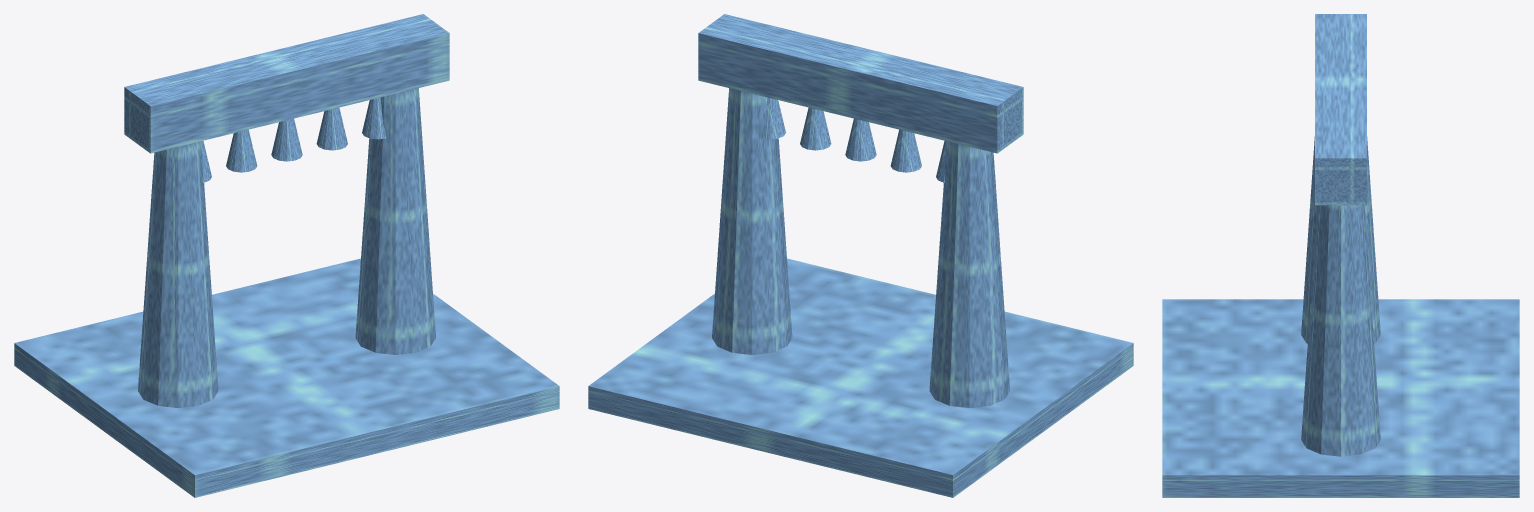
The model's file is frost_arch_01.glb.
3 renders of one model, left to right at view 1: azimuth 30°, elevation 25°; view 2: azimuth 150°, elevation 25°; view 3: azimuth 270°, elevation 25°, orthographic.
Parts seen in each view (by area): view 1: Foundation, FrozenLintel, IceColumn, IceColumn.001, Icicle.001, Icicle.002, Icicle.003, Icicle.004; view 2: Foundation, FrozenLintel, IceColumn, IceColumn.001, Icicle.001, Icicle.002, Icicle.003, Icicle.004; view 3: Foundation, IceColumn.001, FrozenLintel, IceColumn.
Part boxes in pixels (x1,y1,x2,y2): Foundation: (14, 258, 559, 497); FrozenLintel: (124, 14, 449, 153); IceColumn: (138, 141, 218, 408); IceColumn.001: (355, 88, 435, 354); Icicle.001: (226, 129, 257, 172); Icicle.002: (271, 118, 302, 161); Icicle.003: (316, 107, 347, 150); Icicle.004: (362, 97, 385, 139); Foundation: (588, 258, 1133, 497); FrozenLintel: (698, 14, 1023, 153); IceColumn: (929, 141, 1009, 408); IceColumn.001: (712, 88, 792, 354); Icicle.001: (890, 129, 921, 172); Icicle.002: (845, 118, 876, 161); Icicle.003: (800, 107, 831, 150); Icicle.004: (762, 97, 785, 139); Foundation: (1162, 299, 1519, 497); IceColumn.001: (1301, 205, 1380, 456); FrozenLintel: (1315, 14, 1366, 205); IceColumn: (1301, 136, 1380, 343).
Bounding box in the file's own units: 4.03 × 3.45 × 3.45.
1 material, 1 textured.
